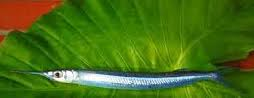sayori: (15, 62, 224, 92)
